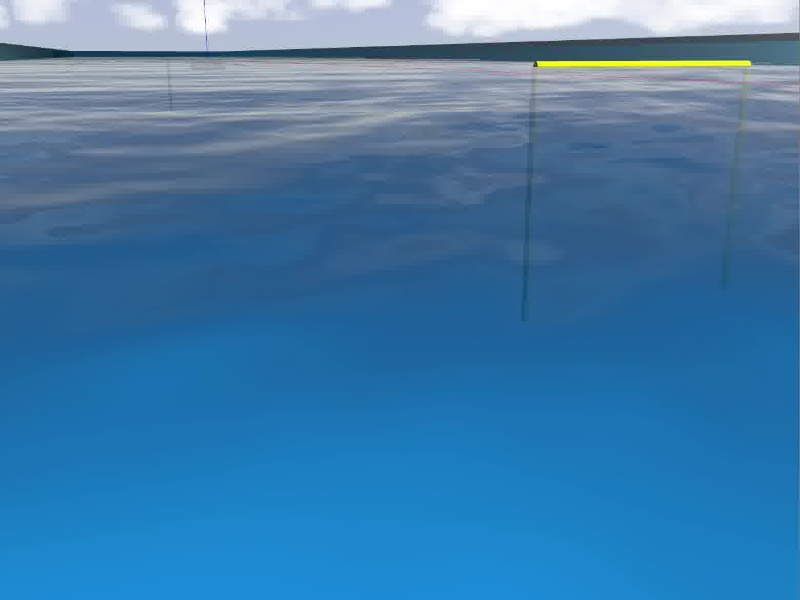gate: (519, 60, 754, 319)
